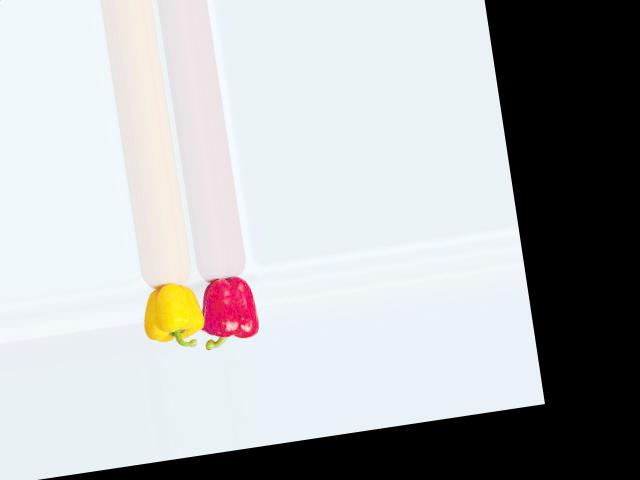bell_pepper: (193, 265, 266, 348)
